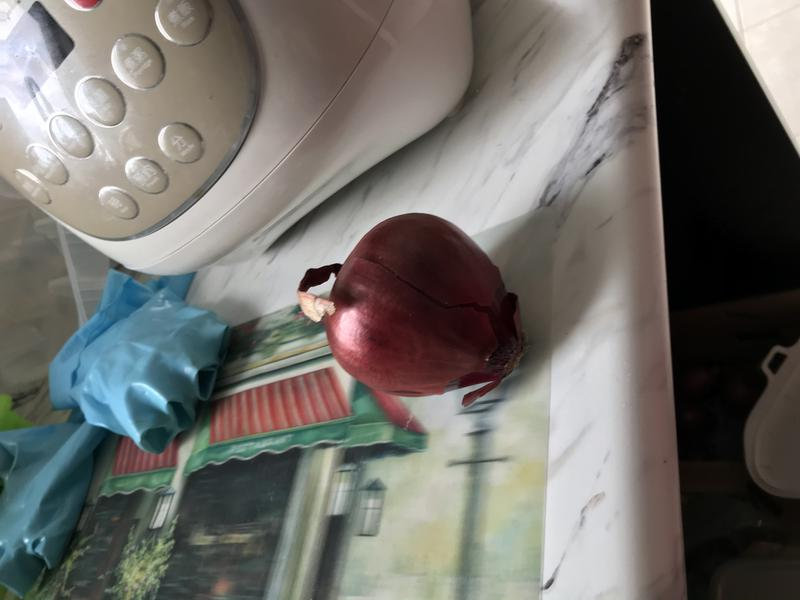purple_onion: (282, 199, 539, 415)
